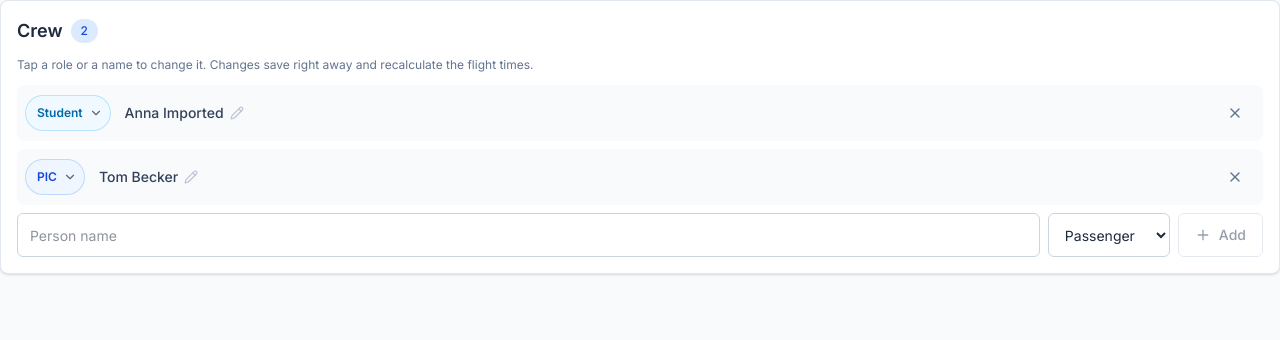
Test: FlightCrewCard › reverts and shows the error when saving fails
This screenshot has width=1280, height=340.
Select "Examiner" in the dropdown named "Role of Anna Imported" at (68, 113), box [25,95,111,131]
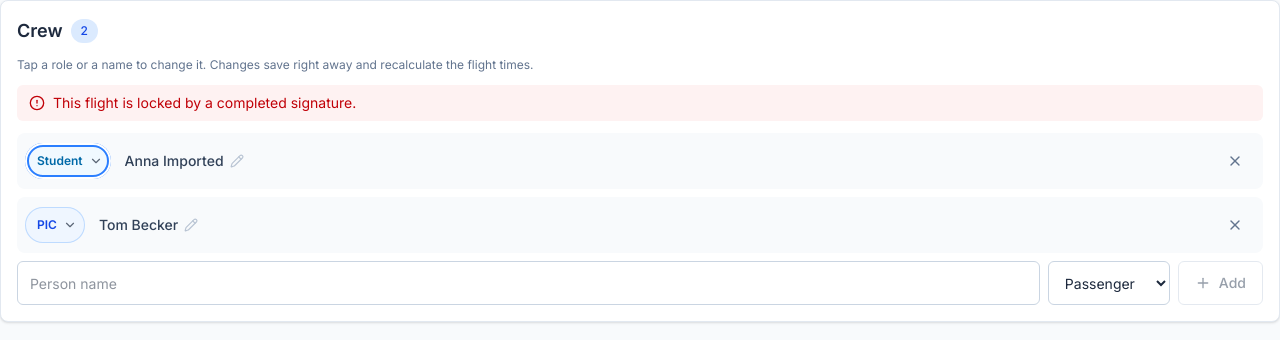
Expected: the message reads "This flight is locked by a completed signature.", [53,94,356,111]
